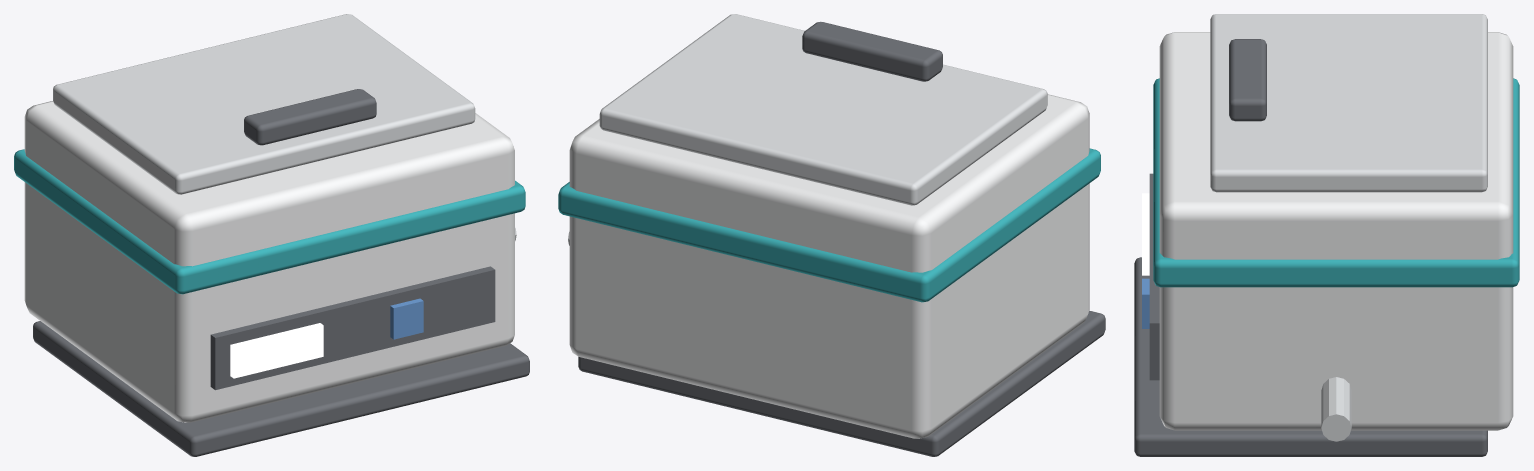
The model's file is ultrasonic.glb.
The picture shows the model from 3 angles, left to right: view 1: azimuth 30°, elevation 25°; view 2: azimuth 150°, elevation 25°; view 3: azimuth 270°, elevation 25°; orthographic projection. The views are drawn at different scales.
Parts seen in each view (by area): view 1: ultrasonic-cleaner-bath, lid/steel, lid/dark; view 2: ultrasonic-cleaner-bath, lid/steel, lid/dark; view 3: ultrasonic-cleaner-bath, lid/steel, lid/dark.
Boxes of the visible parts, box(x1,y1,x2,y2) form: ultrasonic-cleaner-bath: box(14, 101, 529, 456); lid/steel: box(53, 14, 475, 194); lid/dark: box(244, 89, 376, 145); ultrasonic-cleaner-bath: box(558, 94, 1105, 456); lid/steel: box(599, 14, 1047, 205); lid/dark: box(802, 21, 942, 81); ultrasonic-cleaner-bath: box(1134, 32, 1519, 456); lid/steel: box(1210, 14, 1487, 192); lid/dark: box(1229, 39, 1266, 121).
Size of the model in its own units: 0.415 by 0.262 by 0.305.
